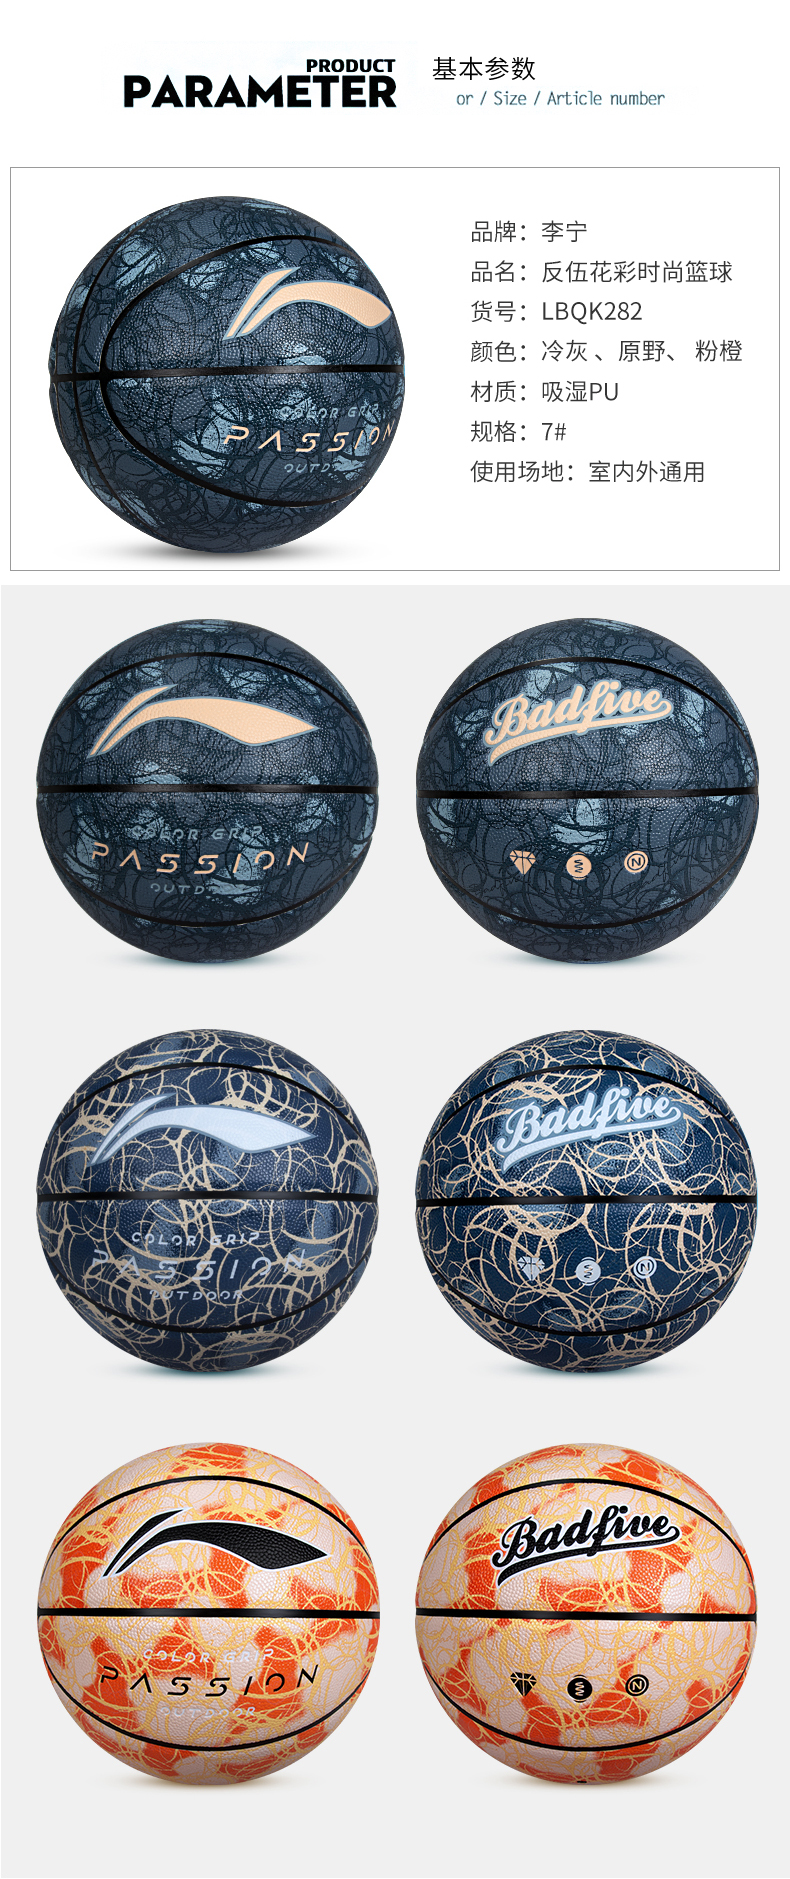ball: (46, 195, 409, 557), (34, 1440, 384, 1792), (414, 1440, 761, 1790), (34, 617, 381, 965), (34, 1031, 381, 1374), (416, 617, 759, 965), (414, 1031, 759, 1372)
